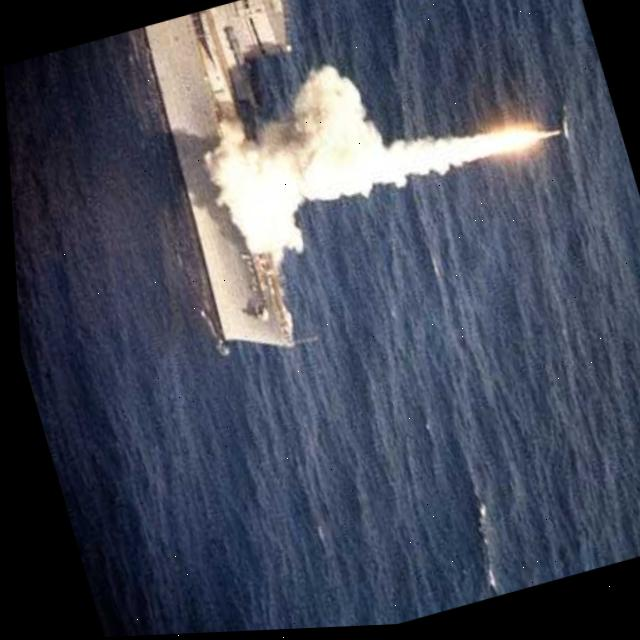missile: (522, 121, 567, 161)
